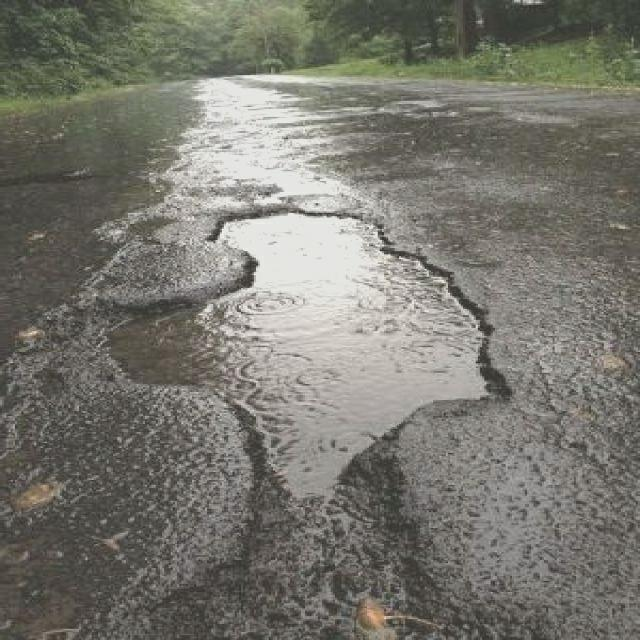Pothole: (100, 200, 521, 493)
